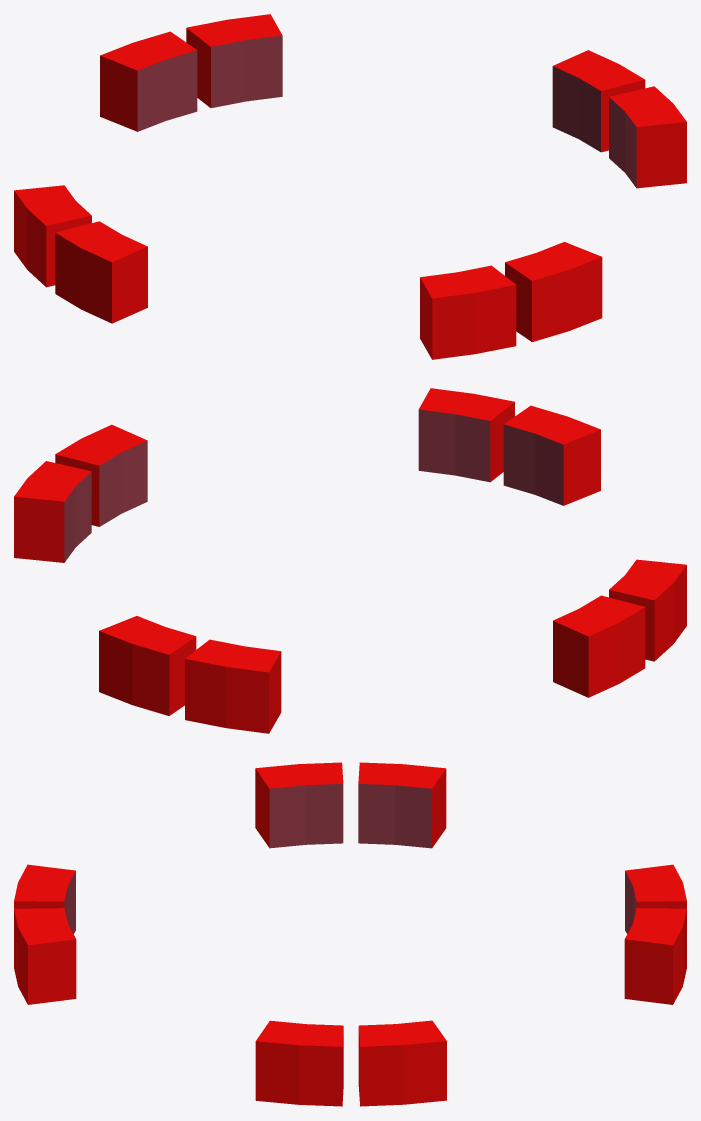
File: Obstacle4.fbx
3 renders of one model, top to bottom at view 1: azimuth 30°, elevation 25°; view 2: azimuth 150°, elevation 25°; view 3: azimuth 270°, elevation 25°, orthographic. The views are drawn at different scales.
Visible parts, largest first — view 1: Obstacle4; view 2: Obstacle4; view 3: Obstacle4.
Part boxes in pixels (x1,y1,x2,y2): Obstacle4: (14, 14, 686, 359); Obstacle4: (14, 388, 686, 733); Obstacle4: (14, 762, 686, 1106).
Bounding box in the file's own units: 200 × 19.55 × 200.
